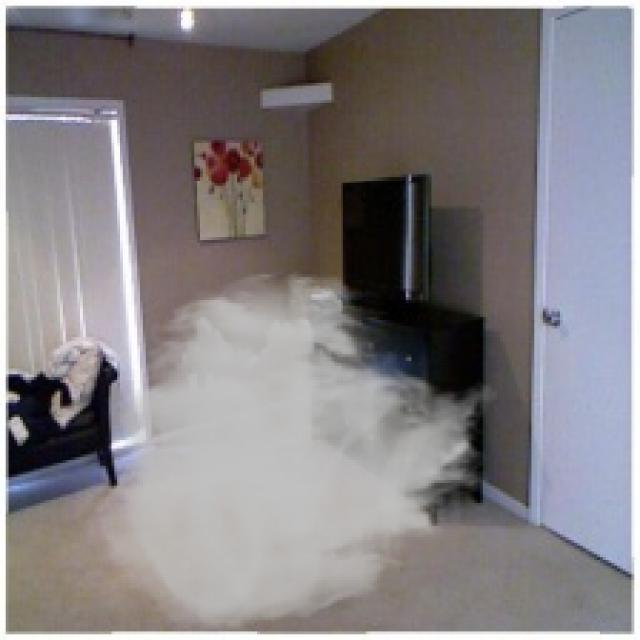Smoke: (97, 268, 500, 638)
